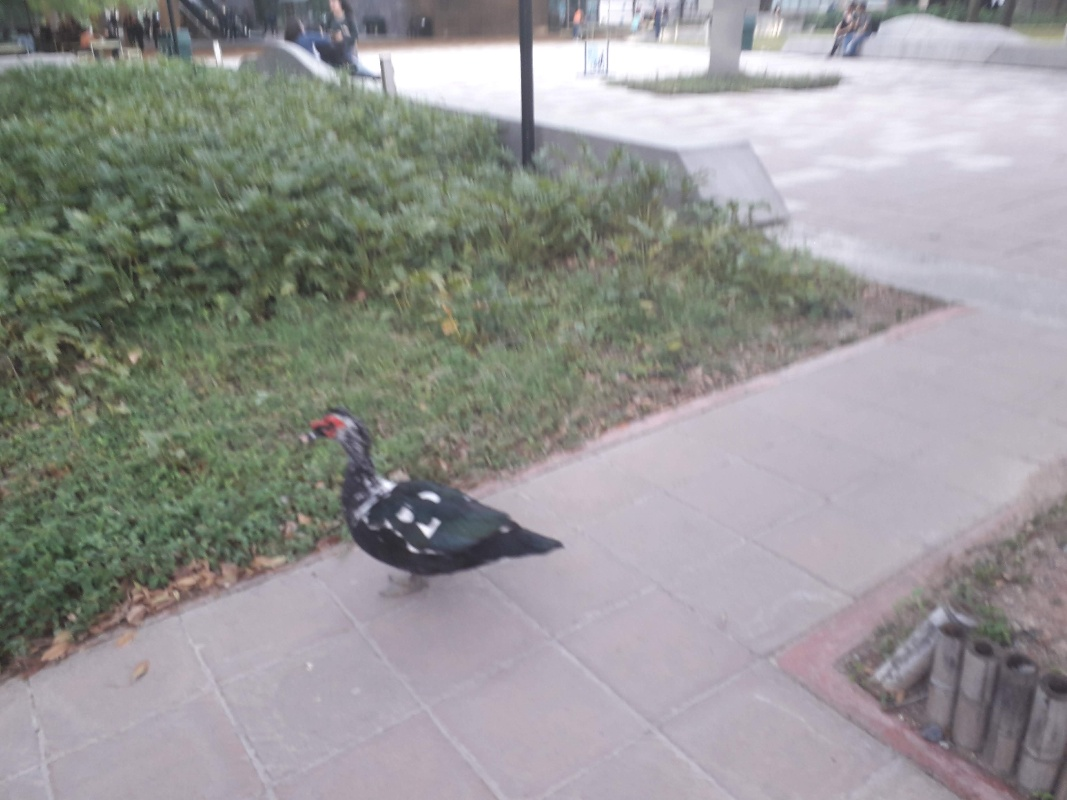pato: (301, 398, 542, 587)
